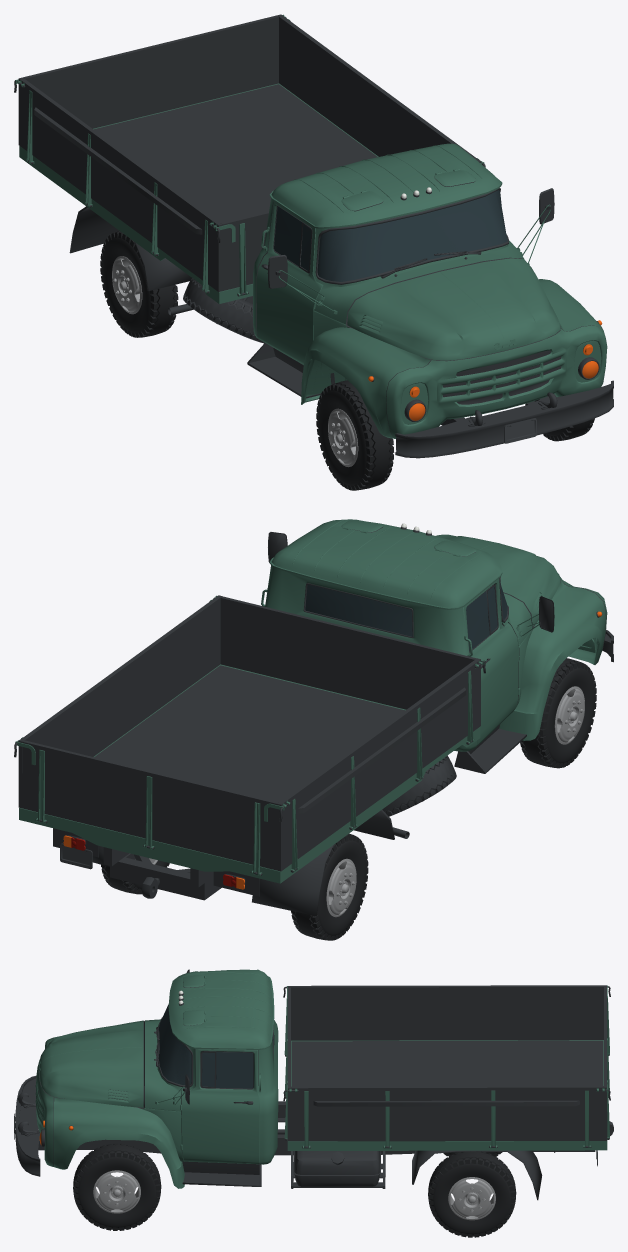
Rendered from zil130.glb.
The picture shows the model from 3 angles, top to bottom: view 1: azimuth 30°, elevation 25°; view 2: azimuth 150°, elevation 25°; view 3: azimuth 270°, elevation 25°; orthographic projection. The views are drawn at different scales.
Parts seen in each view (by area): view 1: chassis_trim, chassisbody, interior, glass, wheel_fr, wheel_rr; view 2: chassis_trim, chassisbody, interior, wheel_fr, wheel_rr, glass, wheel_rl; view 3: chassis_trim, chassisbody, interior, wheel_fl, wheel_rl, glass.
Boxes of the visible parts, bbox=[...] form: chassis_trim: bbox=[14, 14, 601, 443]; chassisbody: bbox=[15, 14, 607, 438]; interior: bbox=[69, 177, 613, 458]; glass: bbox=[274, 190, 507, 281]; wheel_fr: bbox=[316, 380, 394, 490]; wheel_rr: bbox=[100, 230, 178, 337]; chassis_trim: bbox=[14, 527, 606, 887]; chassisbody: bbox=[15, 519, 607, 883]; interior: bbox=[53, 527, 613, 915]; wheel_fr: bbox=[520, 658, 596, 768]; wheel_rr: bbox=[291, 833, 368, 940]; glass: bbox=[305, 582, 507, 651]; wheel_rl: bbox=[101, 858, 169, 894]; chassis_trim: bbox=[14, 971, 610, 1166]; chassisbody: bbox=[35, 969, 609, 1188]; interior: bbox=[15, 969, 613, 1200]; wheel_fl: bbox=[73, 1143, 161, 1230]; wheel_rl: bbox=[428, 1151, 516, 1237]; glass: bbox=[158, 1004, 273, 1088].
Bounding box in the file's own units: 3.07 × 2.58 × 6.97.
